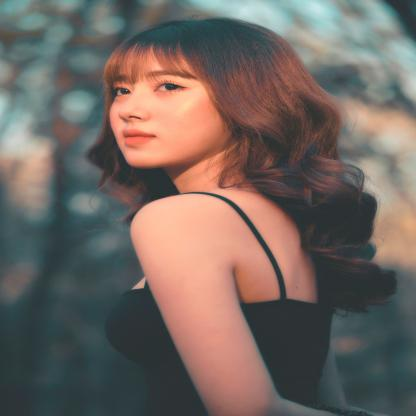Eye: (154, 80, 190, 97), (113, 85, 133, 102)
Mouth: (121, 128, 157, 146)
Nose: (118, 93, 151, 122)
